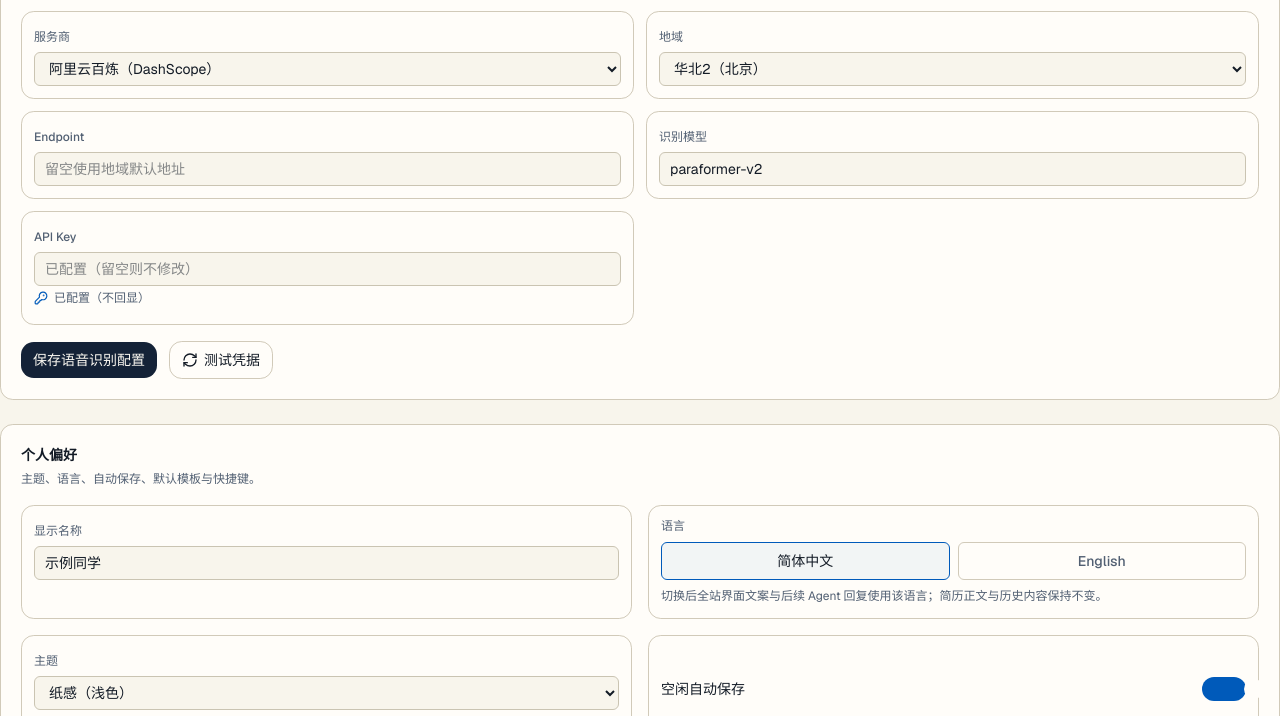
Scenario: SettingsForm 语音识别配置 › 测试凭据成功时走 i18n 文案，且 Key 为空时不重复下发
(page scrolled)
Click the button "测试凭据".
click(221, 360)  # box 169,341 -> 273,379
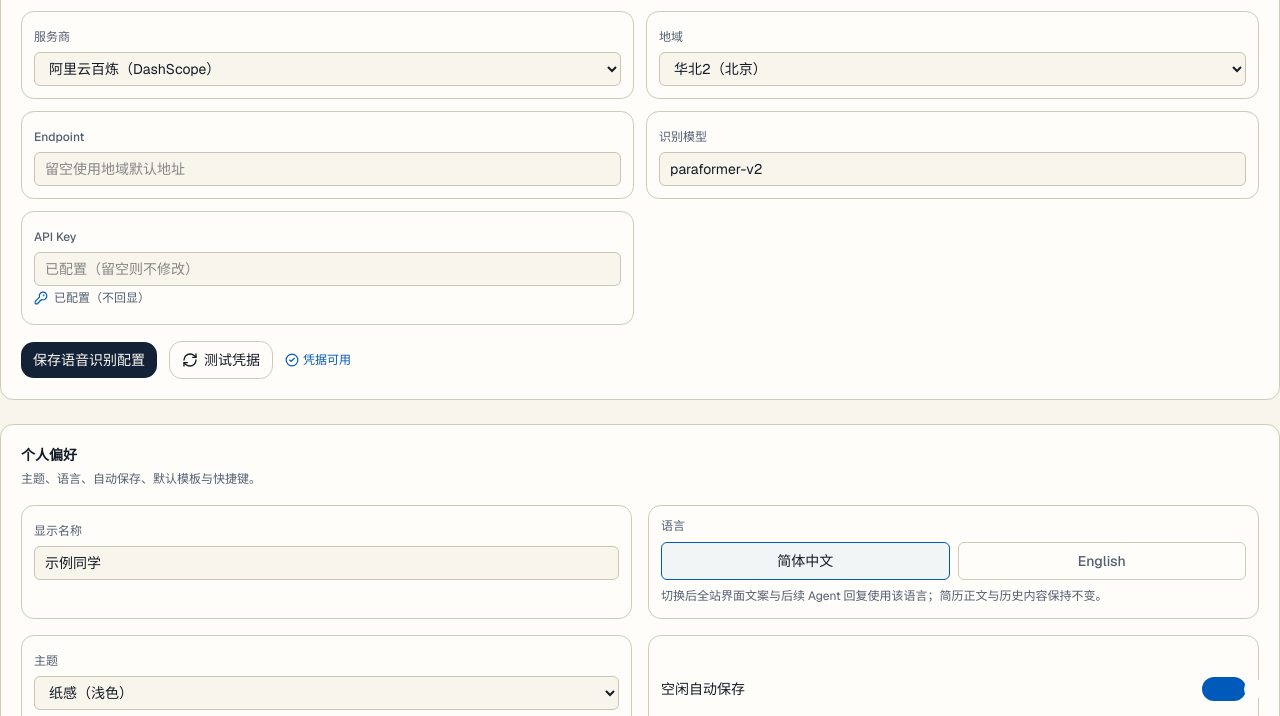
Expected: the text "凭据可用" is shown, 285,352 -> 351,368
